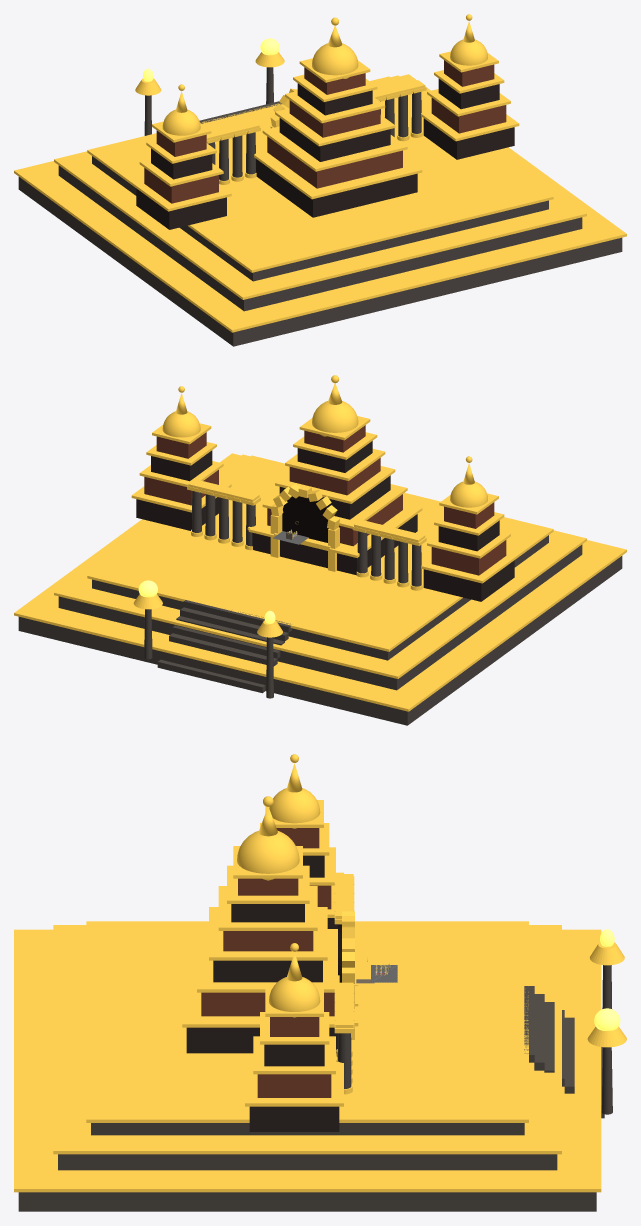
Rendered from NarSimha_Movie_palace.glb.
3 renders of one model, top to bottom at view 1: azimuth 30°, elevation 25°; view 2: azimuth 150°, elevation 25°; view 3: azimuth 270°, elevation 25°, orthographic. The views are drawn at different scales.
Visible parts, largest first — view 1: plinth_cornice2, plinth_cornice0, plinth_cornice1, plinth_tier0, plinth_tier1, plinth_tier2, central_tier0, central_tier1, central_cornice0, central_tier2, flankR_tier0, flankL_tier0 (+25 smaller); view 2: plinth_cornice2, plinth_cornice0, plinth_cornice1, plinth_tier0, plinth_tier1, plinth_tier2, central_tier0, flankL_tier0, central_cornice0, central_tier3, flankL_tier1, flankR_tier0 (+34 smaller); view 3: plinth_cornice2, plinth_cornice0, plinth_cornice1, plinth_tier0, plinth_tier1, plinth_tier2, central_cornice1, central_cornice0, flankR_tier0, central_cornice2, central_tier2, central_dome (+25 smaller).
Boxes of the visible parts, <box> form: plinth_cornice2: <box>87,76,553,272</box>; plinth_cornice0: <box>14,74,626,332</box>; plinth_cornice1: <box>54,75,586,299</box>; plinth_tier0: <box>18,177,622,346</box>; plinth_tier1: <box>58,165,582,311</box>; plinth_tier2: <box>92,156,548,281</box>; central_tier0: <box>256,159,417,217</box>; central_tier1: <box>267,136,402,188</box>; central_cornice0: <box>254,144,422,199</box>; central_tier2: <box>279,118,390,161</box>; flankR_tier0: <box>423,118,514,159</box>; flankL_tier0: <box>136,188,226,229</box>; plinth_cornice2: <box>87,455,553,651</box>; plinth_cornice0: <box>14,453,626,711</box>; plinth_cornice1: <box>54,454,586,678</box>; plinth_tier0: <box>18,556,622,725</box>; plinth_tier1: <box>58,544,582,690</box>; plinth_tier2: <box>92,535,548,660</box>; central_tier0: <box>252,514,417,575</box>; flankL_tier0: <box>423,560,514,601</box>; central_cornice0: <box>247,503,422,557</box>; central_tier3: <box>289,458,380,495</box>; flankL_tier1: <box>431,540,506,575</box>; flankR_tier0: <box>136,497,219,530</box>; plinth_cornice2: <box>86,921,528,1122</box>; plinth_cornice0: <box>14,929,601,1192</box>; plinth_cornice1: <box>53,925,561,1154</box>; plinth_tier0: <box>18,1192,596,1211</box>; plinth_tier1: <box>58,1154,557,1170</box>; plinth_tier2: <box>91,1123,524,1135</box>; central_cornice1: <box>197,929,339,992</box>; central_cornice0: <box>182,951,358,1027</box>; flankR_tier0: <box>249,1106,339,1131</box>; central_cornice2: <box>209,907,327,960</box>; central_tier2: <box>213,960,322,982</box>; central_dome: <box>237,831,299,880</box>.
Size of the model in its own units: 404 by 210 by 404.
Materials: 31 (1 with a texture image).
